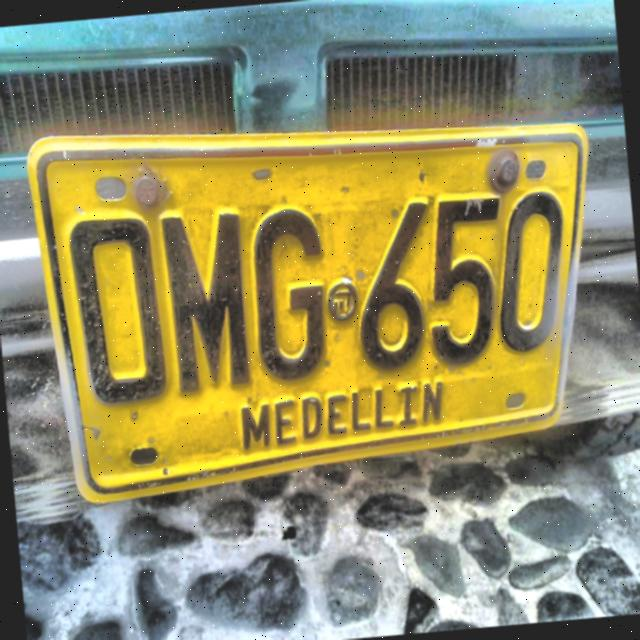0: (493, 184, 570, 369)
5: (428, 186, 506, 371)
6: (357, 194, 432, 373)
G: (245, 199, 329, 389)
M: (155, 206, 259, 403)
O: (58, 213, 174, 410)
